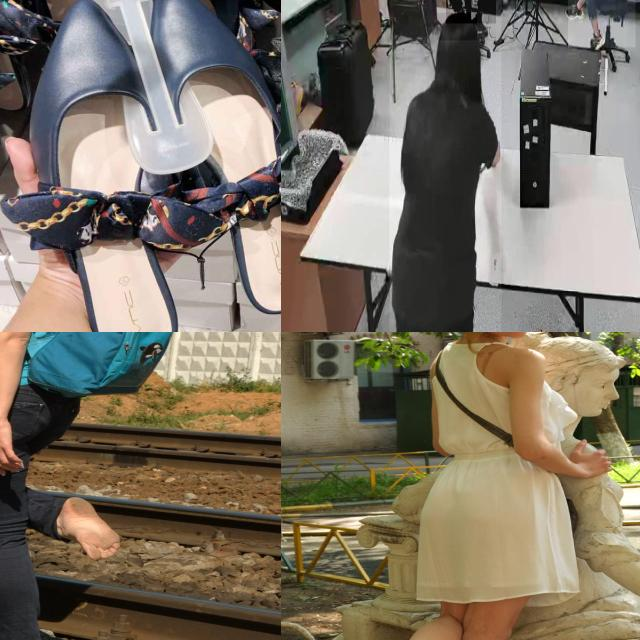Barefoots: (63, 497, 120, 560)
Sandals: (0, 0, 281, 332)
head_nohelmet: (437, 13, 478, 41)
person: (389, 0, 502, 332), (568, 0, 636, 48)
shoes: (563, 0, 586, 24), (589, 26, 603, 56)
